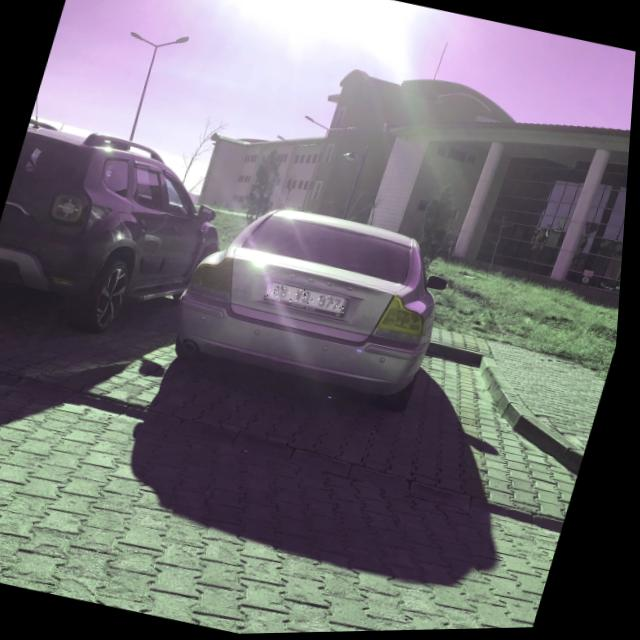license_plate: (268, 282, 352, 317)
